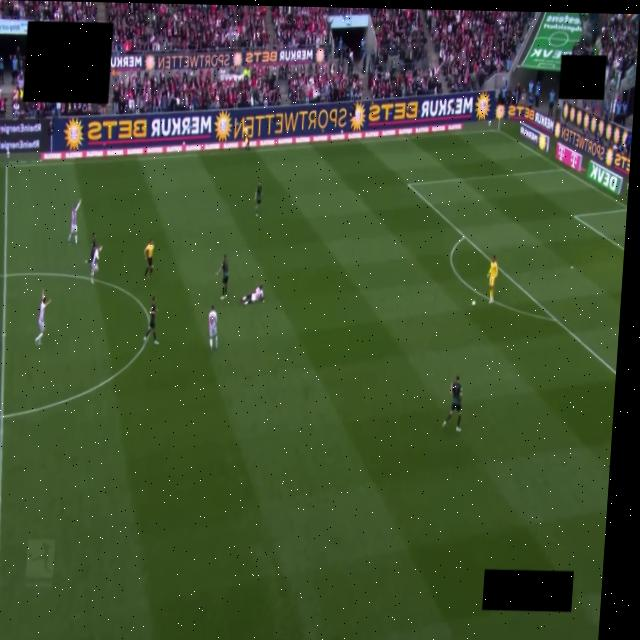ball: (471, 301, 475, 306)
player: (442, 376, 462, 432), (34, 292, 50, 344), (144, 296, 157, 344), (216, 254, 228, 299), (68, 201, 80, 244), (487, 255, 497, 303), (240, 285, 263, 305), (89, 246, 101, 282), (208, 306, 217, 349), (86, 234, 96, 263), (254, 181, 261, 216)
referee: (143, 240, 153, 277)
